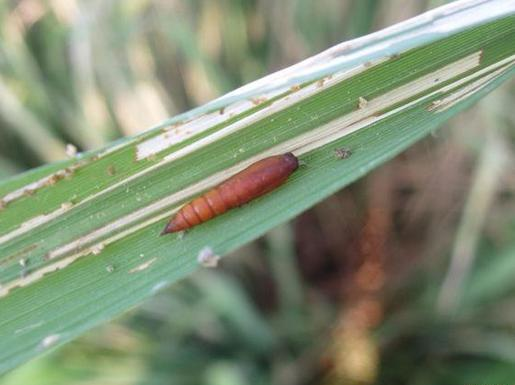pest: (159, 150, 299, 238)
